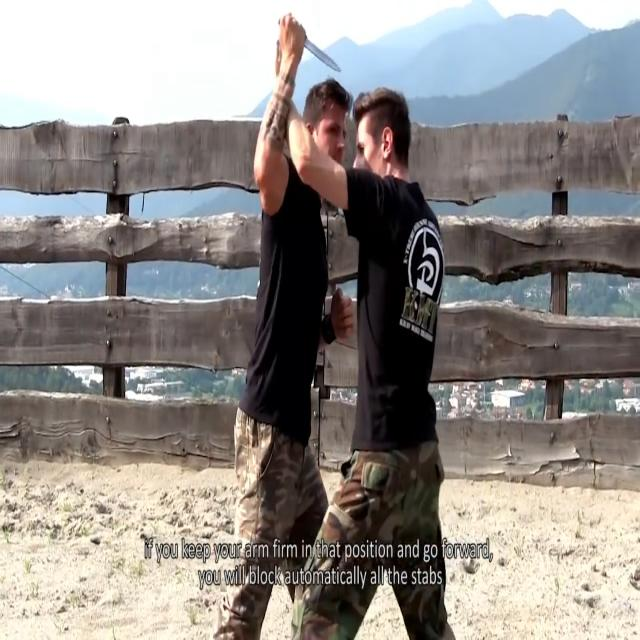knife: (301, 33, 343, 79)
